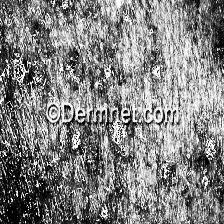Benign Marking or Mole: (40, 0, 172, 88), (64, 130, 177, 210), (10, 50, 32, 88), (202, 135, 222, 164)
